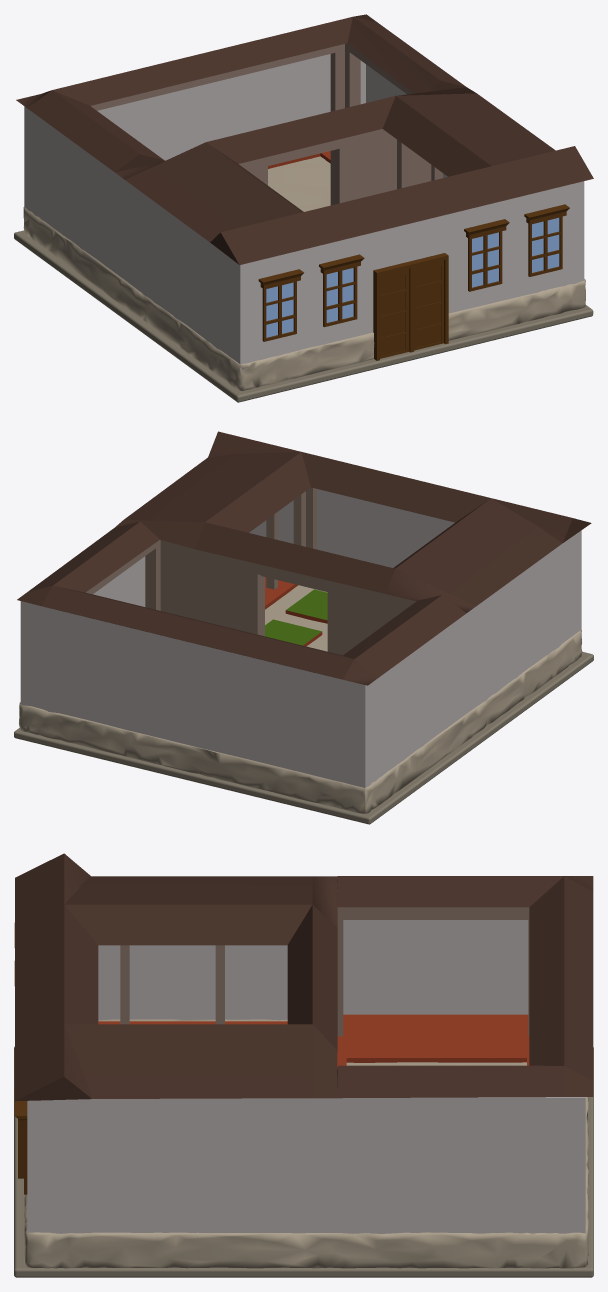
File: lugar_mucic.glb
3 views of the same model, one above another, from view 1: azimuth 30°, elevation 25°; view 2: azimuth 150°, elevation 25°; view 3: azimuth 270°, elevation 25° (orthographic). The views are drawn at different scales.
Parts seen in each view (by area): view 1: Cube.034, Plane.001, Cube.026, Cube.031, Cube.028, Cube.033, Cube.032, Cube.004, Cube.030, Cube.027, Cube.029; view 2: Cube.034, Plane.001, Cube.026, Cube.032, Cube.028, Cube.033, Cube.012, Cube.014; view 3: Cube.034, Plane.001, Cube.026, Cube.023, Cube.028, Cube.032, Cube.016, Cube.018, Cube.020, Cube.004.
Boxes of the visible parts, x1,y1,x2,y2 form: Cube.034: (24, 54, 584, 382); Plane.001: (16, 14, 593, 264); Cube.026: (23, 156, 585, 390); Cube.031: (373, 253, 448, 360); Cube.028: (14, 230, 593, 402); Cube.033: (239, 129, 408, 204); Cube.032: (91, 43, 431, 205); Cube.004: (524, 204, 569, 276); Cube.030: (258, 269, 303, 341); Cube.027: (464, 219, 509, 291); Cube.029: (319, 254, 364, 327); Cube.034: (20, 489, 581, 813); Plane.001: (17, 431, 591, 685); Cube.026: (19, 585, 582, 813); Cube.032: (86, 540, 416, 655); Cube.028: (14, 651, 593, 824); Cube.033: (261, 487, 327, 636); Cube.012: (265, 619, 322, 646); Cube.014: (285, 589, 327, 623); Cube.034: (27, 920, 585, 1233); Plane.001: (15, 853, 593, 1101); Cube.026: (24, 1019, 588, 1268); Cube.023: (337, 1014, 529, 1062); Cube.028: (14, 1046, 593, 1277); Cube.032: (337, 907, 529, 1036); Cube.016: (120, 945, 129, 1024); Cube.018: (215, 945, 224, 1024); Cube.020: (98, 1021, 287, 1024); Cube.004: (14, 1090, 27, 1194).
Size of the model in its own units: 2.76 by 1.16 by 3.01.
